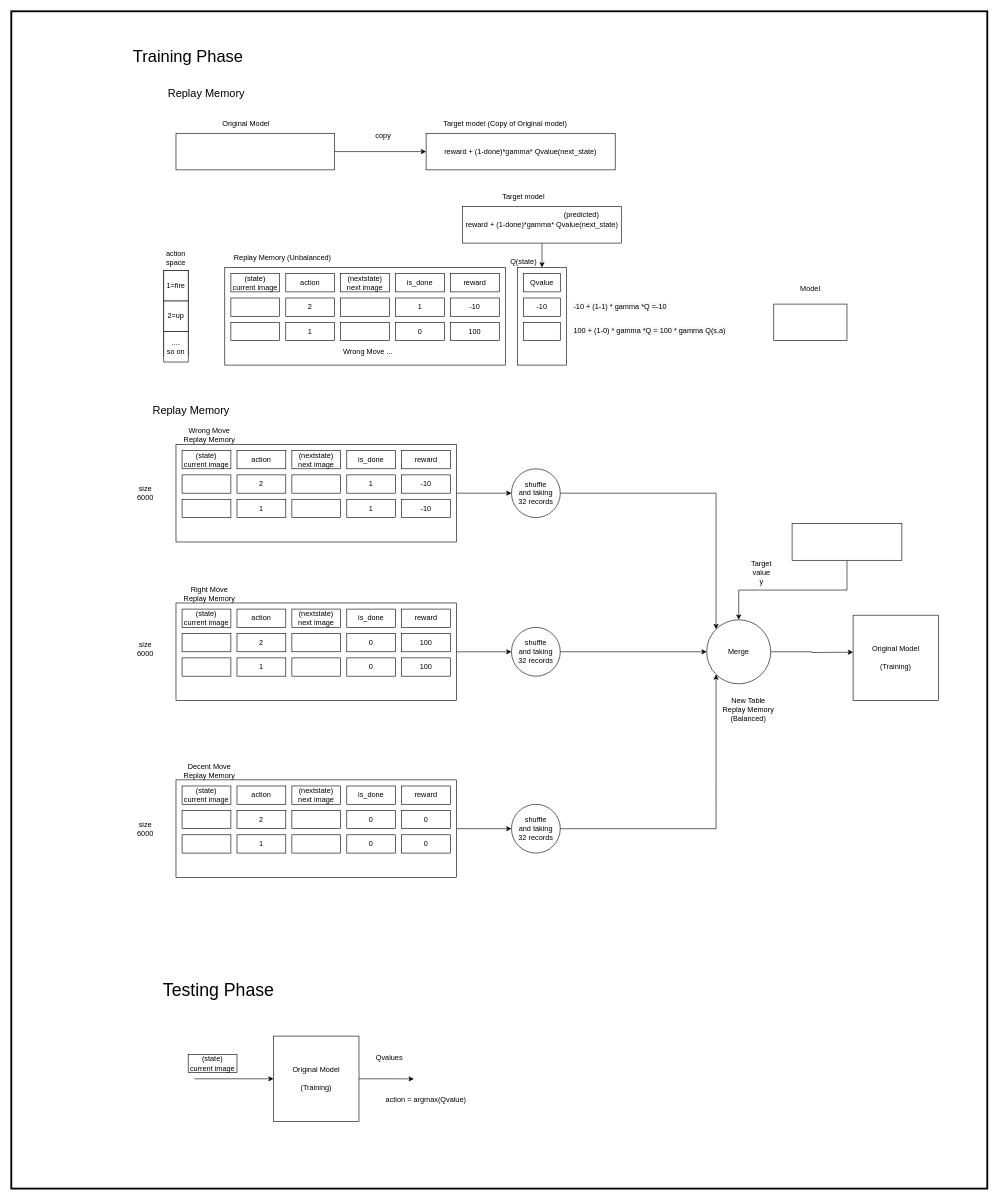
Image size: 999x1200. Some labels were removed from this diagram. Each missing label, with the box of its shape:
Q(state) Q values of all action: (175, 133, 335, 170)
reward + Qvalue(next_state): (773, 303, 847, 341)
Target Model reward + (1-done)*gamma* max(Qvalue(next_state)): (791, 523, 902, 560)
